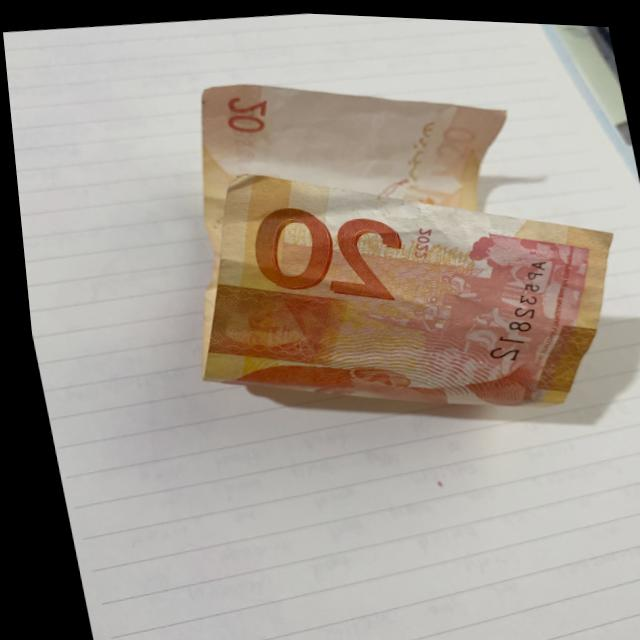concealed_value: (207, 280, 336, 362)
serial_number: (465, 248, 550, 365)
value: (227, 195, 420, 314)
watermark: (265, 95, 439, 187)
